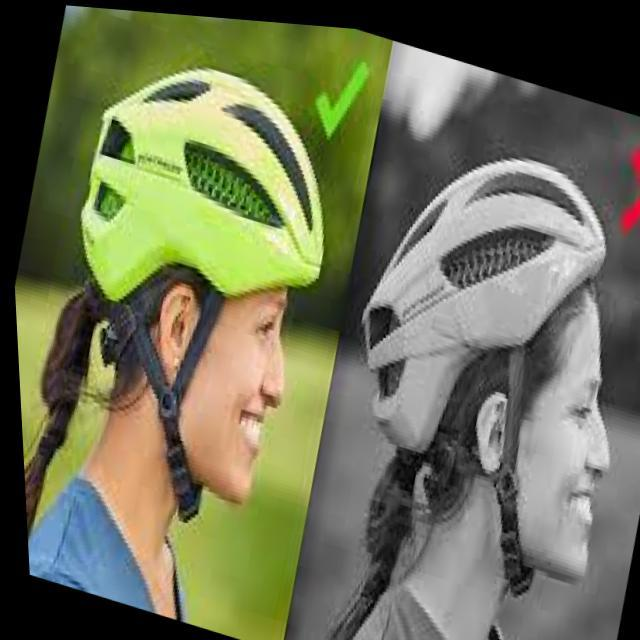Helmet: (79, 63, 330, 524)
